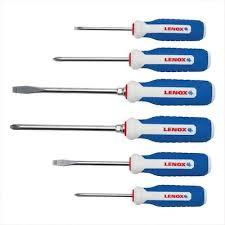screwdriver: (9, 113, 216, 142), (11, 76, 215, 105), (52, 45, 211, 72), (52, 150, 211, 176), (73, 183, 207, 207), (73, 18, 205, 40)
